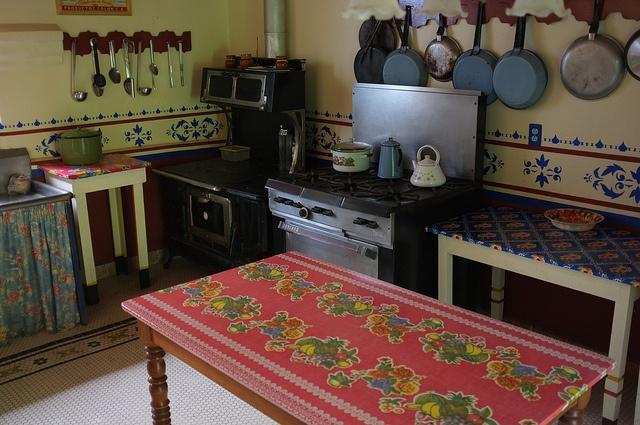Meja: (119, 249, 620, 424), (422, 202, 639, 299)
